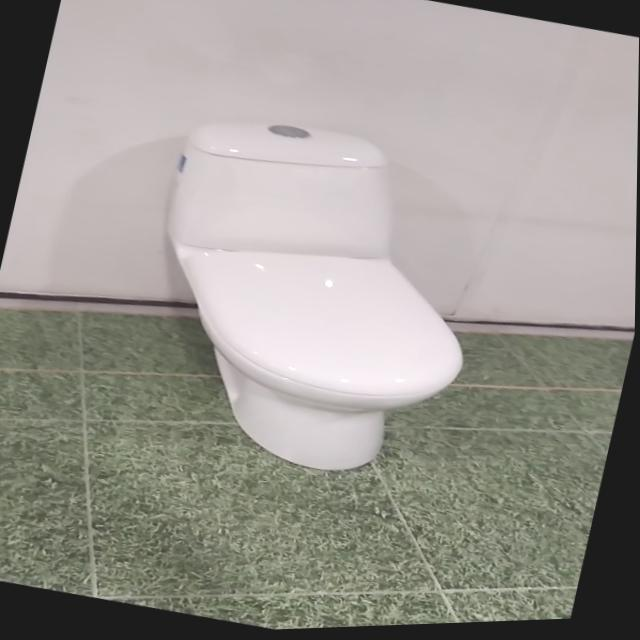toilet: (116, 97, 511, 503)
